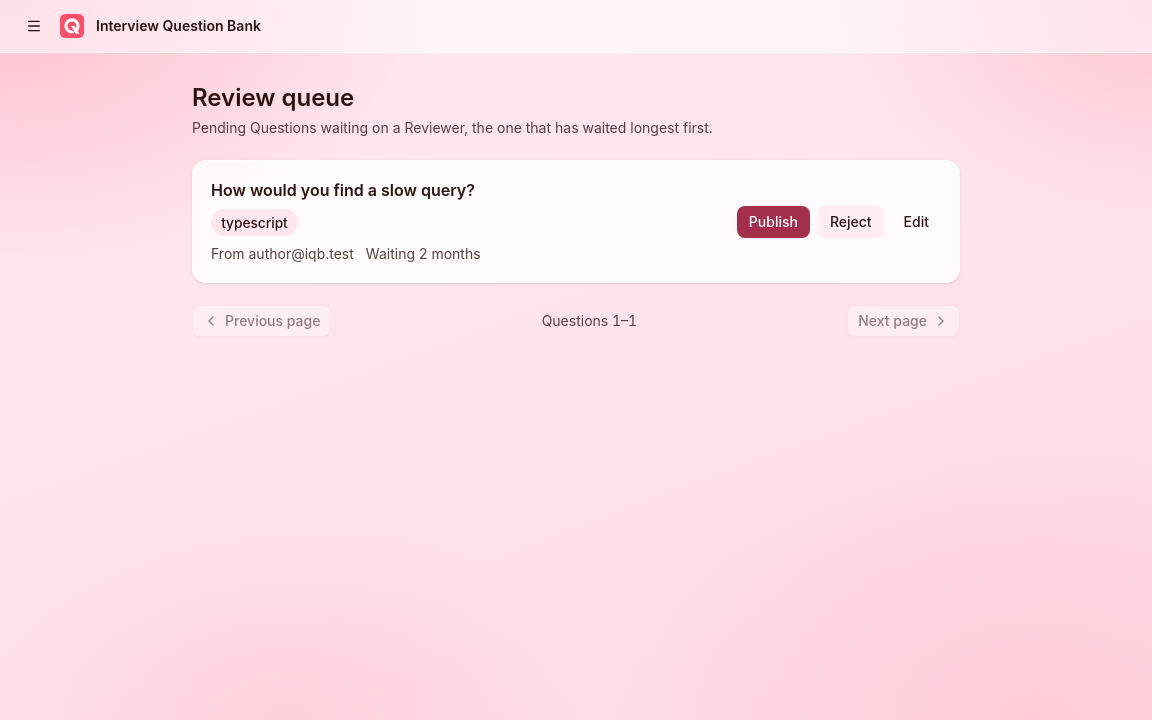
a Near-Duplicate found at publication › leaves the Question Pending, and sends nothing more, when the Reviewer says so
This screenshot has width=1152, height=720.
Click the button "Publish" at (773,222), box [737,206,810,238]
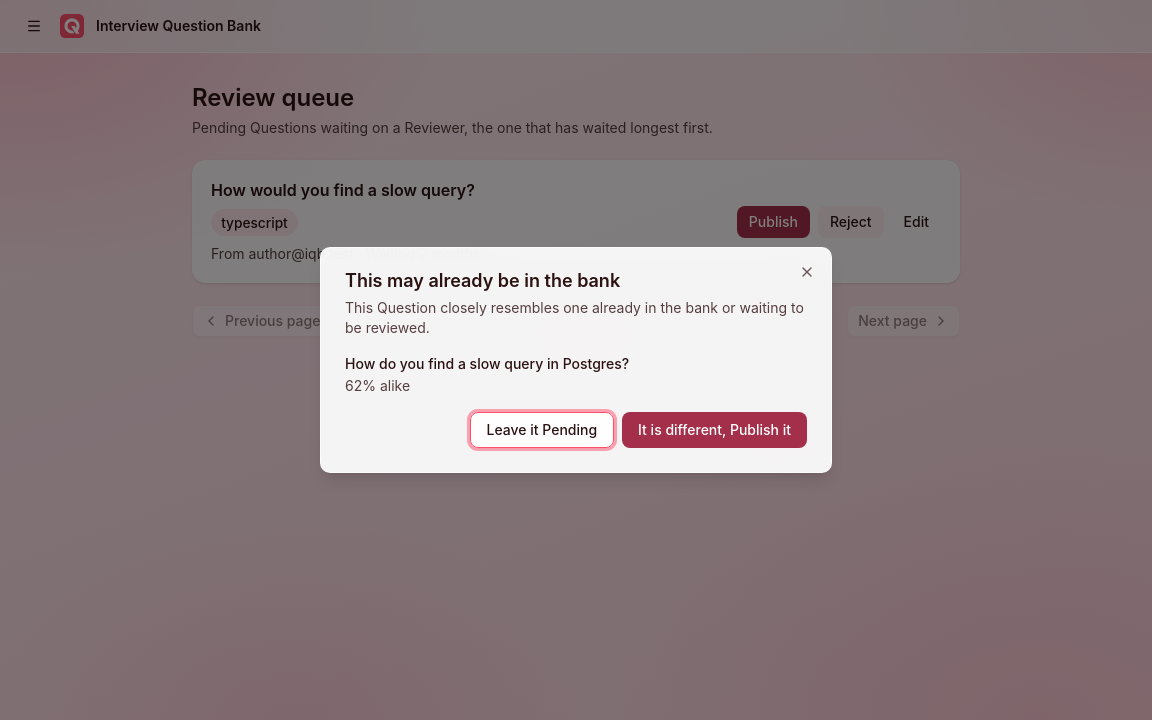
Click the button "Leave it Pending" at (542,430), box [470,412,614,448]
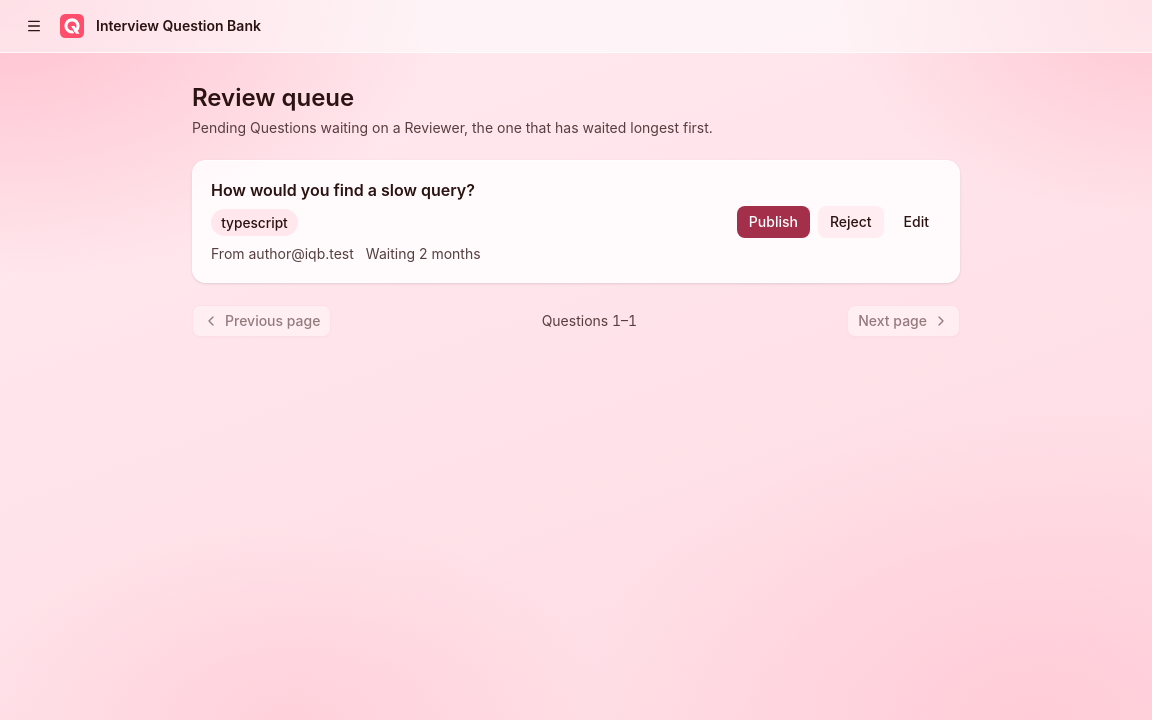
Expected: the link "How would you find a slow query?" is shown, [211,180,475,200]
Now the dialog is gone
